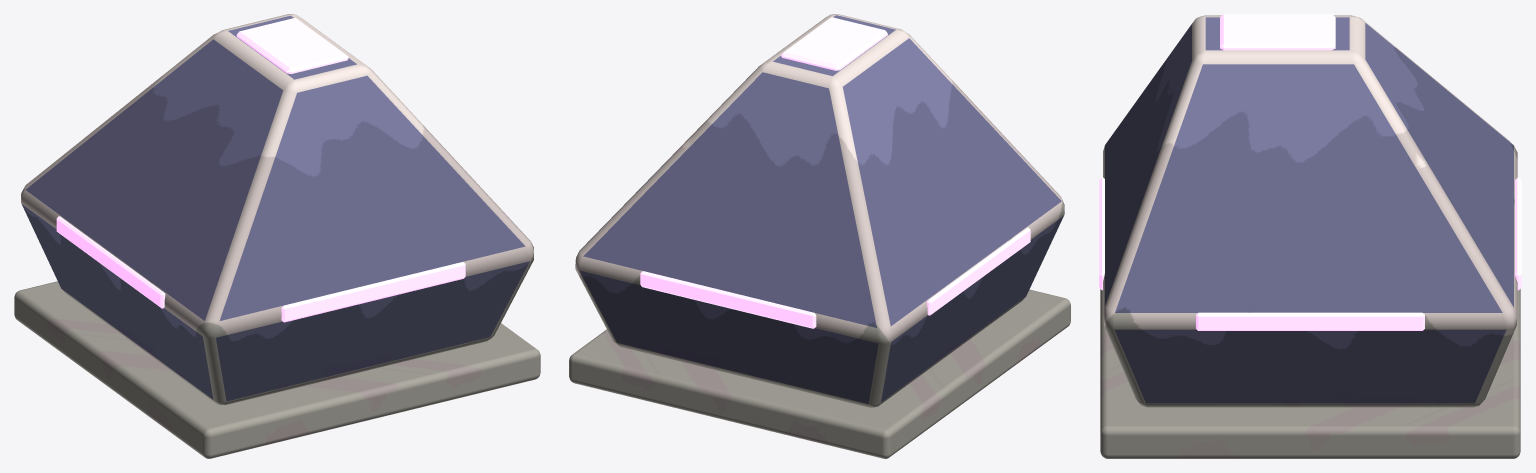
The model's file is R4X_Stealth.glb.
The picture shows the model from 3 angles, left to right: view 1: azimuth 30°, elevation 25°; view 2: azimuth 150°, elevation 25°; view 3: azimuth 270°, elevation 25°; orthographic projection. The views are drawn at different scales.
Parts seen in each view (by area): view 1: R4X_Stealth_Body; view 2: R4X_Stealth_Body; view 3: R4X_Stealth_Body.
Boxes of the visible parts, box(x1,y1,x2,y2) form: R4X_Stealth_Body: box(14, 14, 540, 458); R4X_Stealth_Body: box(569, 14, 1070, 458); R4X_Stealth_Body: box(1099, 14, 1521, 458).
Size of the model in its own units: 0.516 by 0.4669 by 0.516.
Materials: 4 (3 with a texture image).
